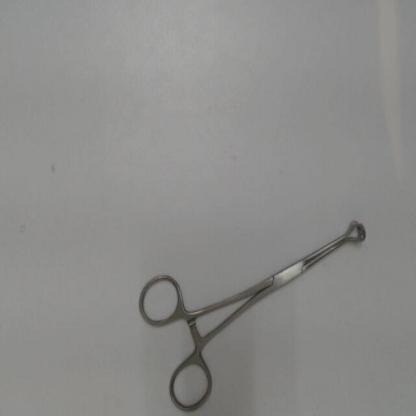Babcock Tissue Forceps: (136, 216, 370, 413)
